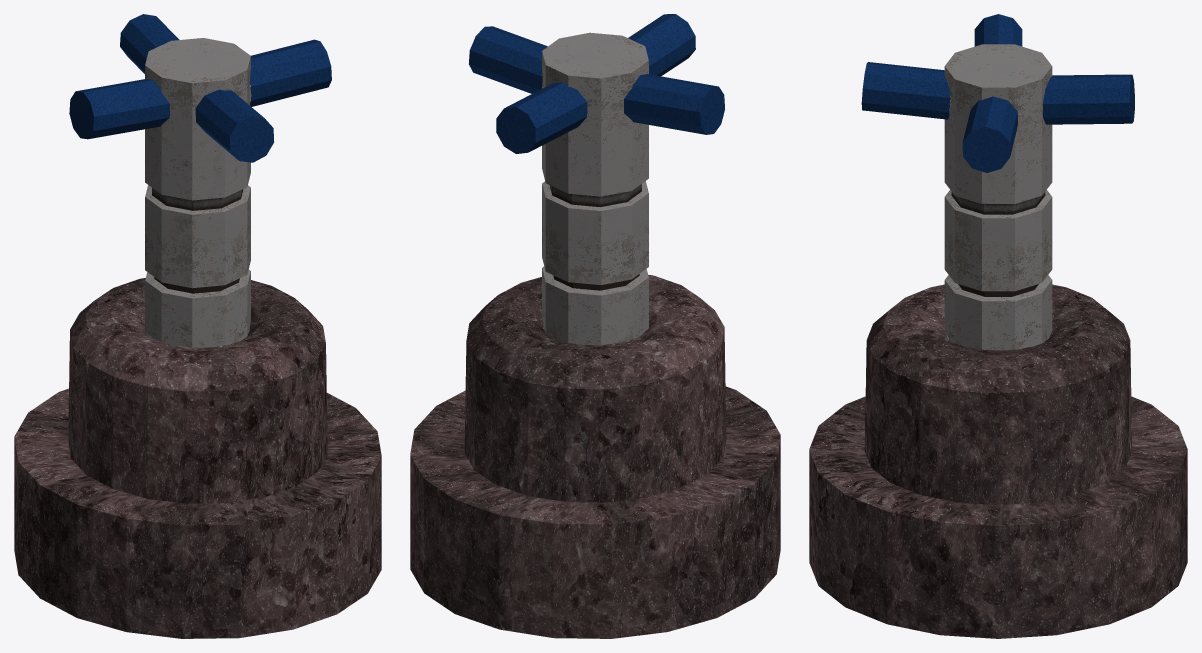
File: handleFinal.fbx
3 views of the same model, side by side, from view 1: azimuth 30°, elevation 25°; view 2: azimuth 150°, elevation 25°; view 3: azimuth 270°, elevation 25° (orthographic).
Parts seen in each view (by area): view 1: pCylinder6; view 2: pCylinder6; view 3: pCylinder6.
Boxes of the visible parts, <box> form: pCylinder6: <box>14,14,381,638</box>; pCylinder6: <box>410,14,780,638</box>; pCylinder6: <box>809,14,1187,638</box>.
Bounding box in the file's own units: 3.55 × 5.36 × 3.71.
